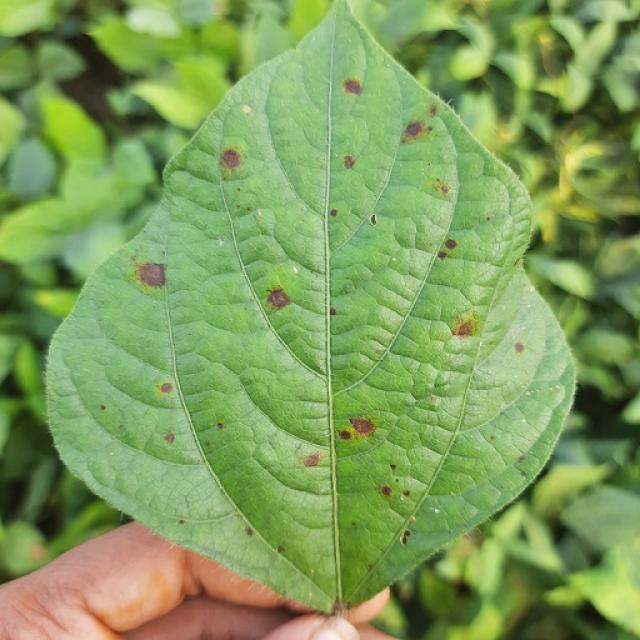Anthracnose: (371, 461, 419, 514), (124, 259, 172, 296), (336, 414, 378, 441), (218, 145, 246, 182), (448, 310, 481, 339), (266, 286, 292, 310), (401, 119, 428, 142), (436, 238, 458, 261), (342, 78, 362, 95), (433, 177, 450, 196), (302, 452, 322, 467), (160, 382, 174, 394), (343, 155, 355, 169), (400, 530, 411, 545), (445, 238, 457, 250), (339, 429, 352, 440), (380, 485, 393, 496), (514, 342, 525, 353), (429, 103, 438, 116), (164, 433, 174, 443), (245, 526, 254, 537), (437, 251, 447, 260), (330, 208, 338, 217), (389, 463, 397, 471), (277, 546, 285, 554), (517, 455, 525, 463), (329, 307, 336, 316), (216, 423, 224, 430), (99, 404, 106, 411), (178, 519, 185, 525)
Blackgram: (48, 1, 574, 615)
